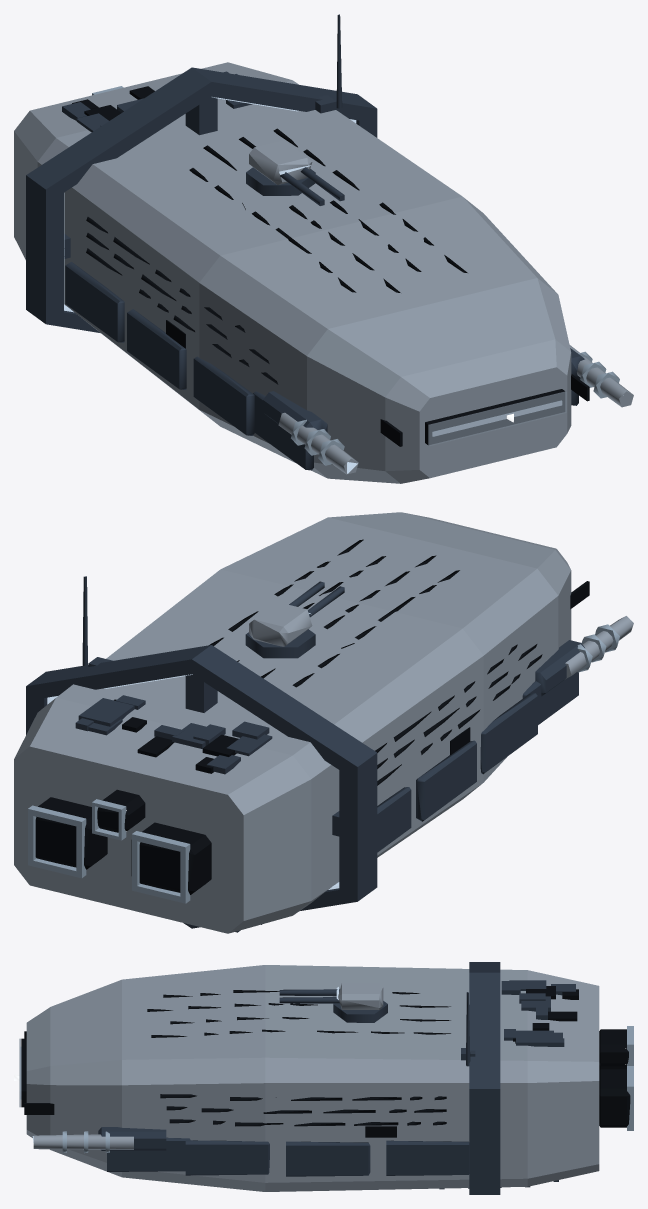
The model's file is paragraf-wykonawcy-hawk-52-lod1.glb.
3 views of the same model, one above another, from view 1: azimuth 30°, elevation 25°; view 2: azimuth 150°, elevation 25°; view 3: azimuth 270°, elevation 25° (orthographic). The views are drawn at different scales.
Size of the model in its own units: 11.39 by 10.05 by 23.48.
